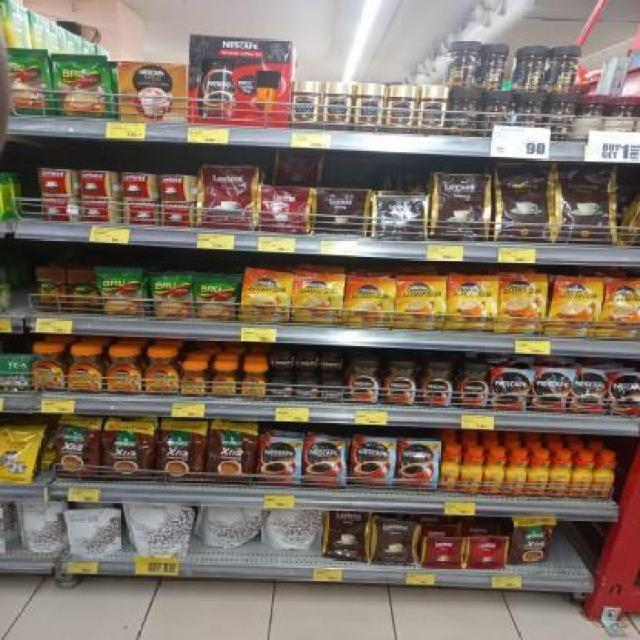Coffee: (549, 277, 600, 336), (497, 274, 546, 333), (447, 276, 496, 332), (395, 279, 446, 330), (598, 279, 640, 339), (292, 272, 340, 323), (347, 279, 393, 330), (349, 437, 394, 488), (243, 272, 288, 322), (257, 437, 301, 487), (396, 441, 439, 492), (302, 439, 346, 488), (67, 347, 106, 393), (530, 368, 568, 414), (144, 349, 181, 396), (30, 346, 66, 392), (106, 350, 143, 394), (491, 368, 528, 411), (345, 359, 380, 404), (455, 365, 490, 410), (572, 370, 606, 416), (419, 363, 453, 408), (381, 362, 416, 404), (608, 374, 640, 418), (356, 84, 384, 132), (419, 87, 446, 136), (292, 81, 320, 128), (323, 83, 350, 129), (389, 85, 415, 132), (241, 365, 268, 400), (180, 365, 208, 398), (211, 365, 238, 398), (577, 451, 594, 498), (445, 446, 461, 492), (487, 449, 503, 494), (555, 451, 571, 496), (599, 451, 615, 496), (465, 449, 480, 494), (533, 451, 548, 496), (510, 451, 524, 497), (319, 381, 344, 404), (269, 350, 295, 371), (318, 351, 344, 372), (269, 380, 293, 401), (294, 381, 318, 402), (295, 352, 318, 372)
